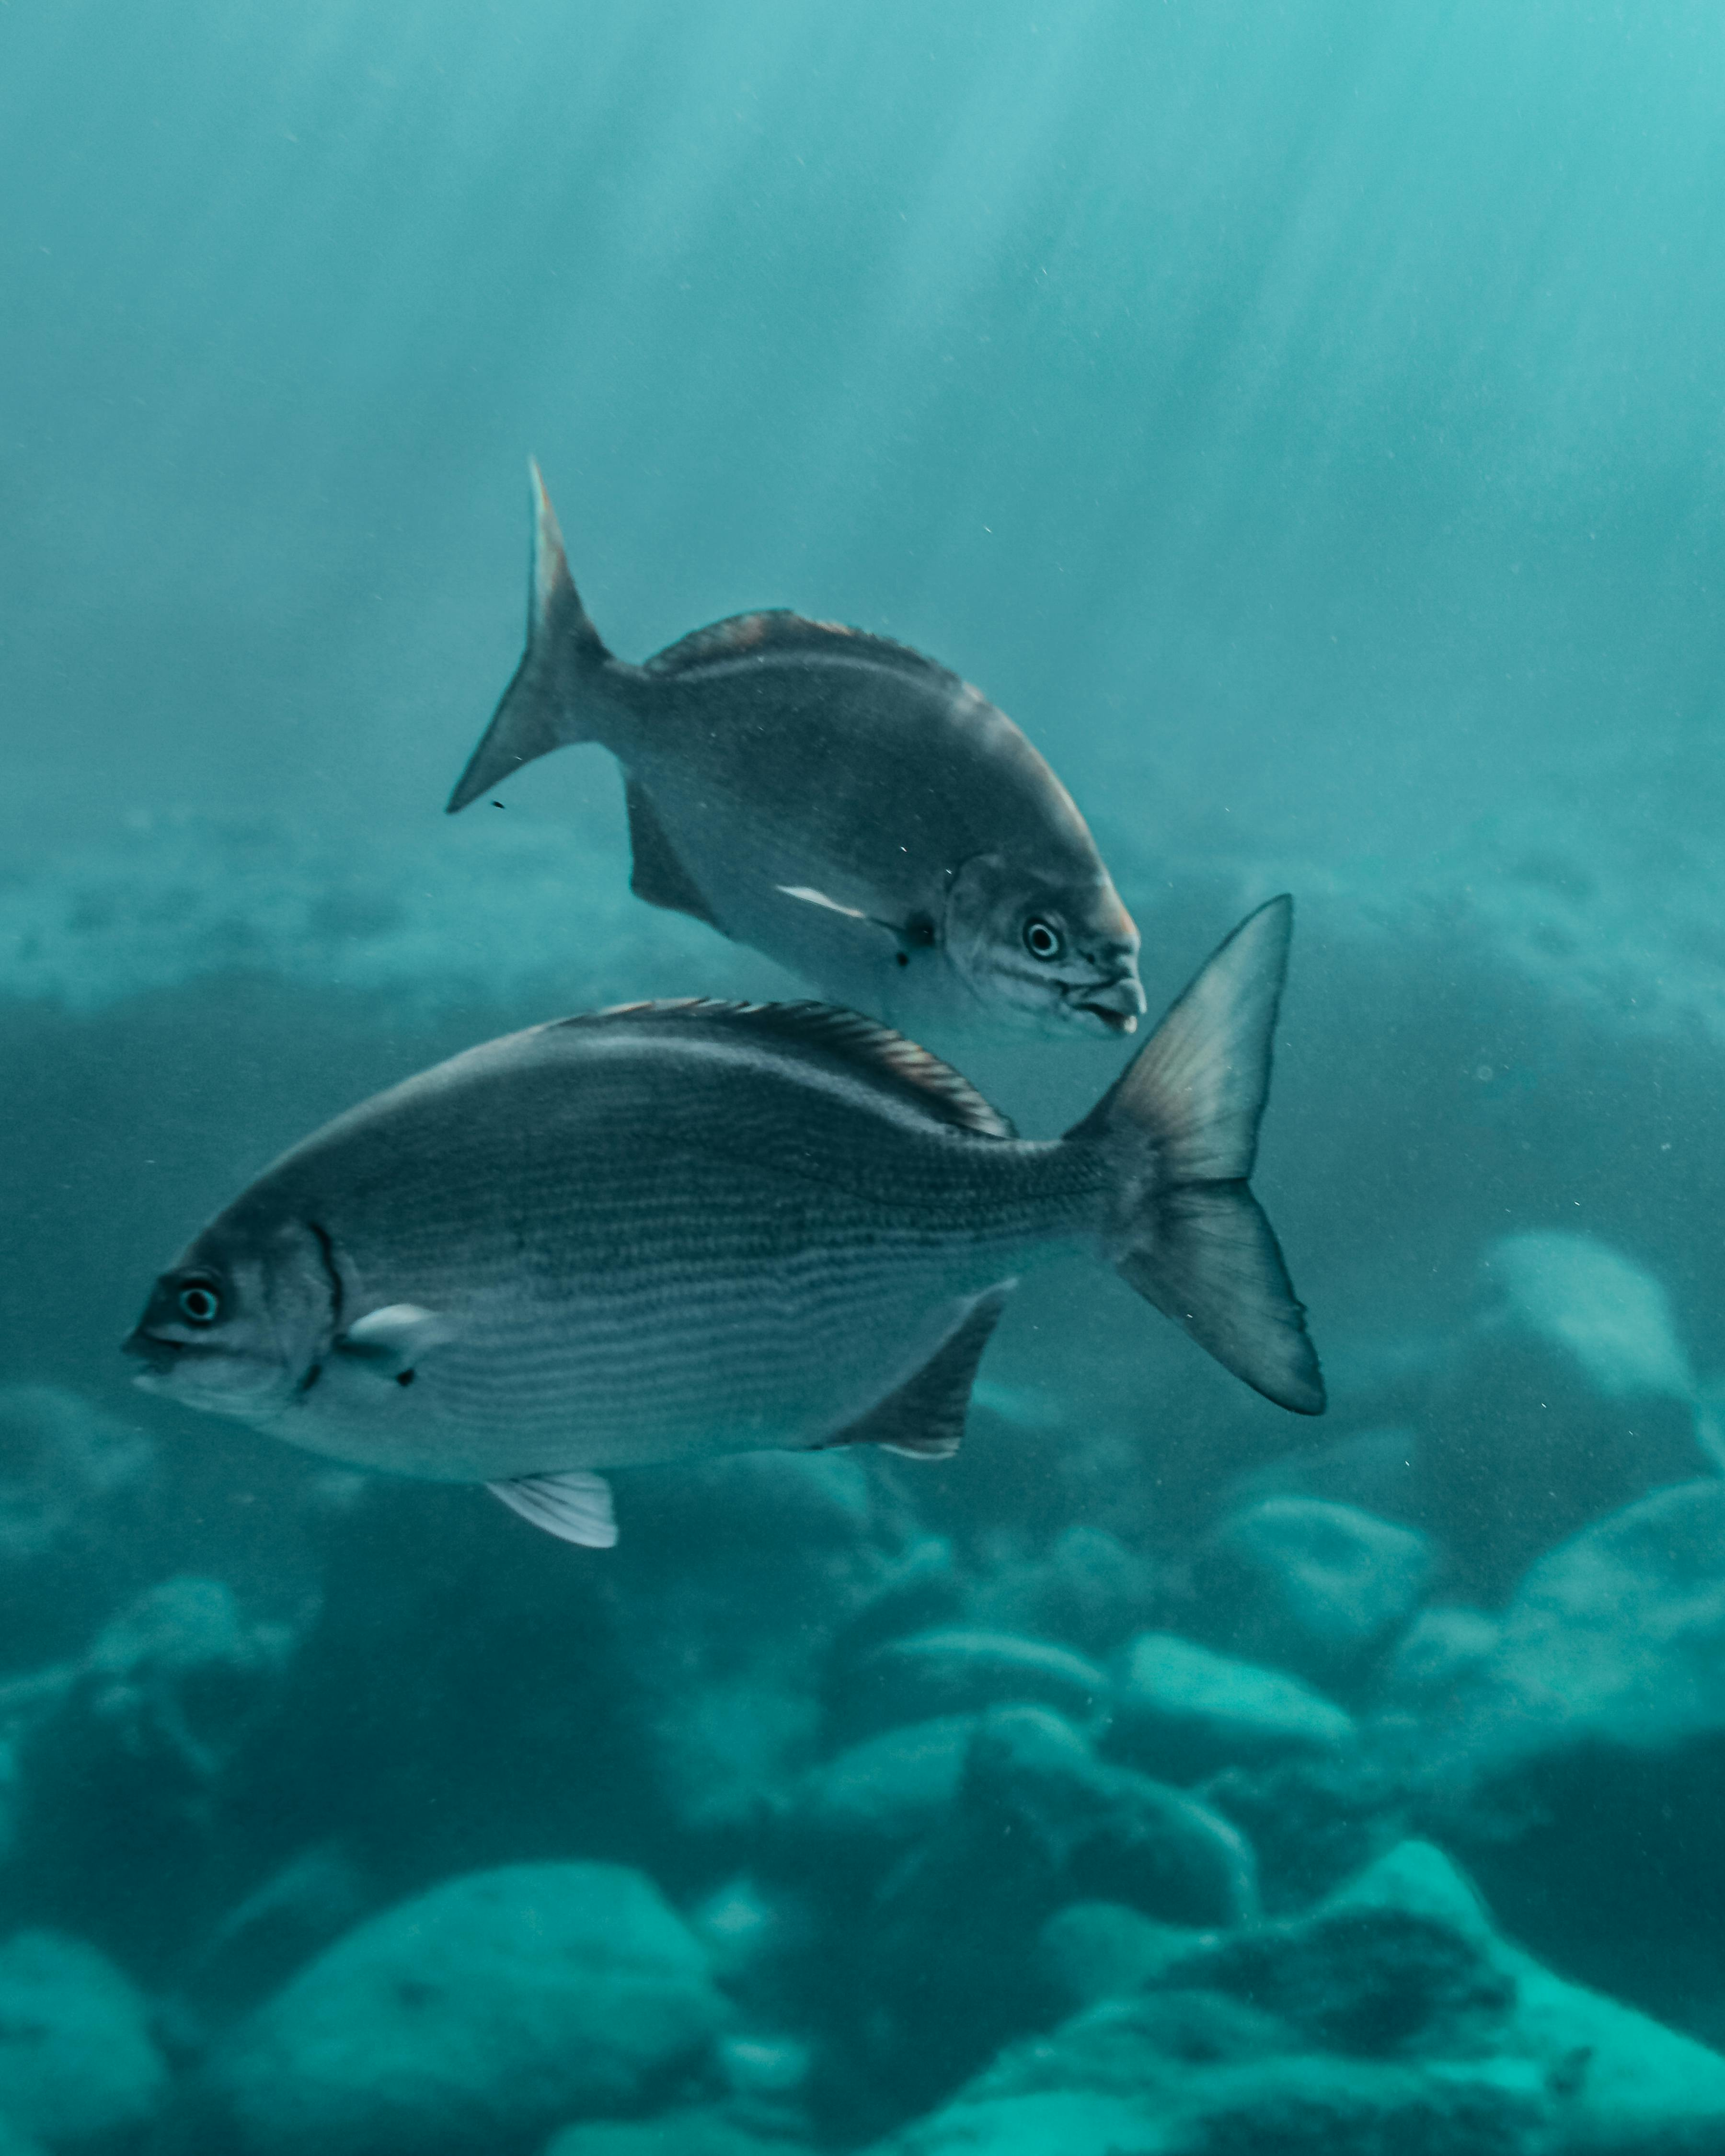fishLarge: (114, 891, 1332, 1552), (445, 449, 1151, 1042)
